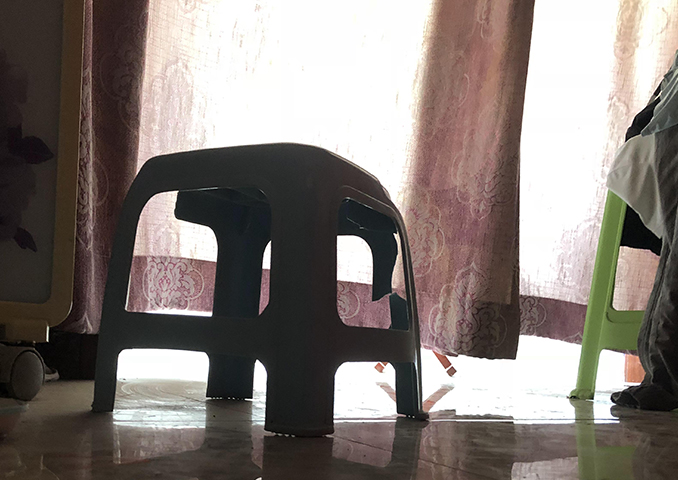curtain: (68, 1, 586, 361)
stool: (88, 141, 432, 437)
